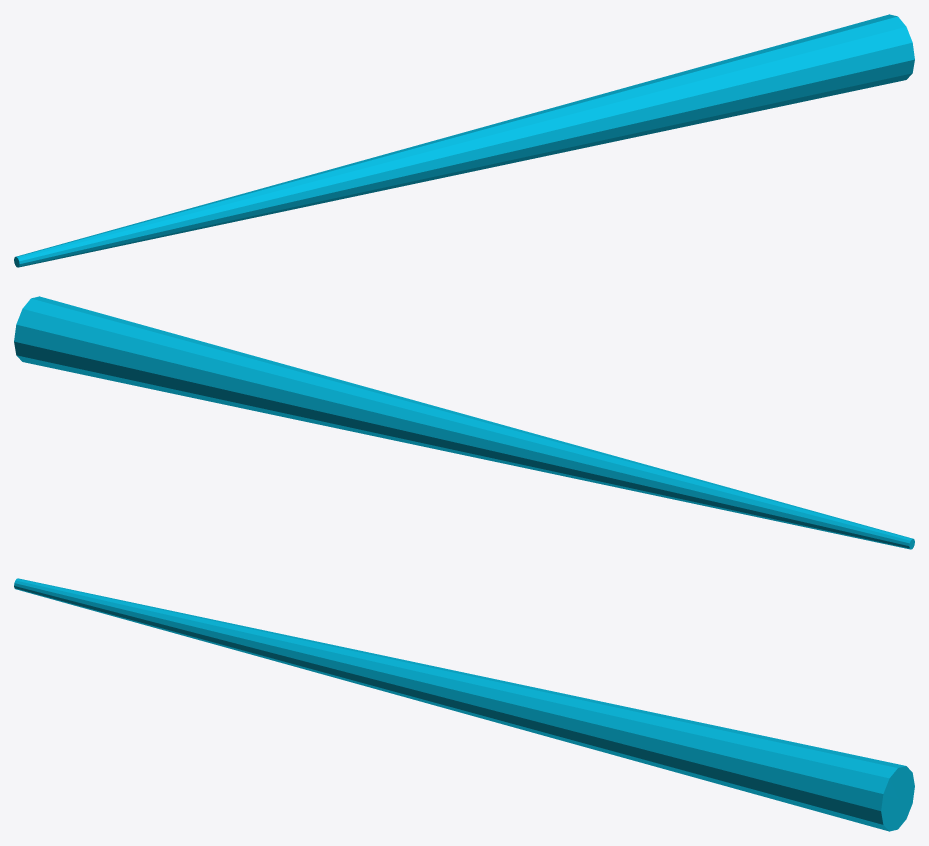
Rendered from SpotlightCone.fbx.
The picture shows the model from 3 angles, top to bottom: view 1: azimuth 30°, elevation 25°; view 2: azimuth 150°, elevation 25°; view 3: azimuth 330°, elevation 25°; orthographic projection.
Visible parts, largest first — view 1: SpotlightEngine.001; view 2: SpotlightEngine.001; view 3: SpotlightEngine.001.
Part boxes in pixels (left/top/right/bottom): SpotlightEngine.001: left=14, top=14, right=914, bottom=267; SpotlightEngine.001: left=14, top=296, right=914, bottom=549; SpotlightEngine.001: left=14, top=578, right=914, bottom=831.
Size of the model in its own units: 1360 by 90.59 by 90.59.
